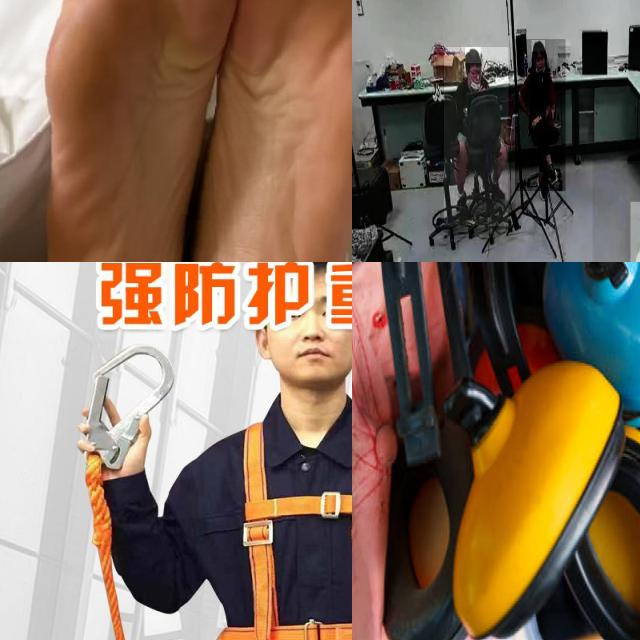Barefoots: (38, 0, 226, 262), (194, 0, 352, 262)
Ear-protection: (453, 262, 629, 640), (380, 262, 473, 640), (541, 262, 640, 421), (577, 426, 640, 640)
Harness: (215, 416, 352, 640)
face_nomask: (534, 55, 545, 71)
head_nohelmet: (465, 47, 481, 64), (532, 40, 546, 52)
person: (444, 47, 509, 227), (515, 39, 566, 192)
